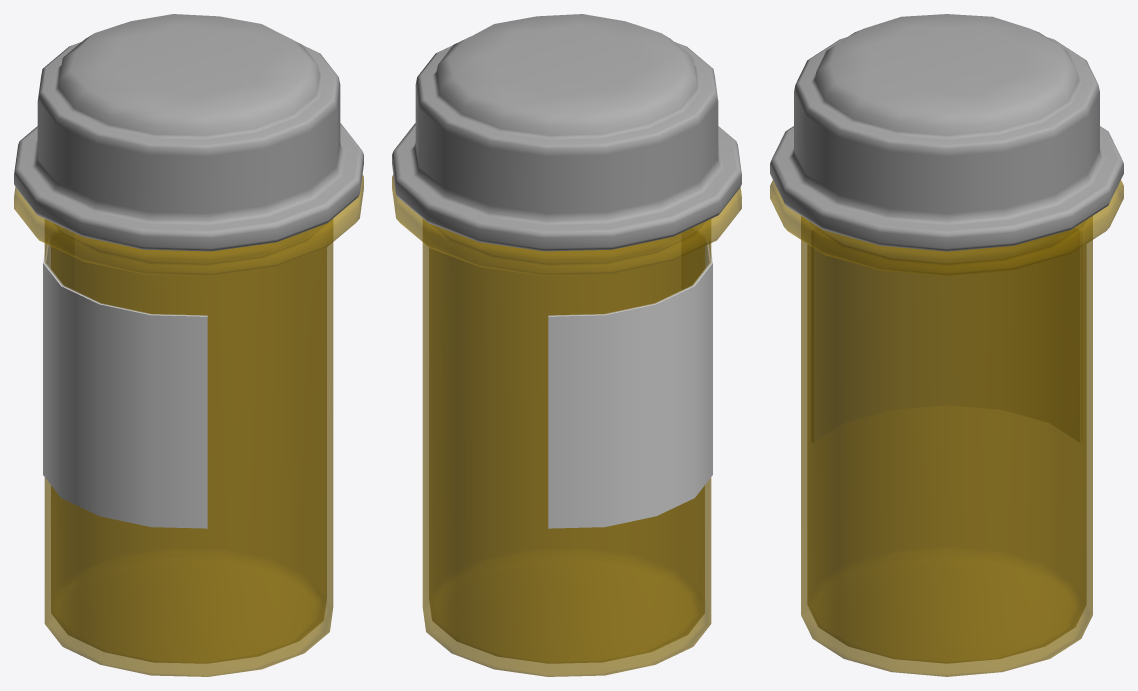
The model's file is PillBottle.fbx.
3 renders of one model, left to right at view 1: azimuth 30°, elevation 25°; view 2: azimuth 150°, elevation 25°; view 3: azimuth 270°, elevation 25°, orthographic.
Visible parts, largest first — view 1: Body, Cap, Label; view 2: Body, Cap, Label; view 3: Body, Cap, Label.
Part boxes in pixels (x1,y1,x2,y2): Body: (14,175,363,676); Cap: (14,14,363,251); Label: (43,228,207,528); Body: (392,175,741,676); Cap: (392,14,741,251); Label: (548,228,712,528); Body: (770,180,1123,676); Cap: (770,14,1123,251); Label: (813,227,1080,441).
Size of the model in its own units: 0.4218 by 0.7358 by 0.4218.
